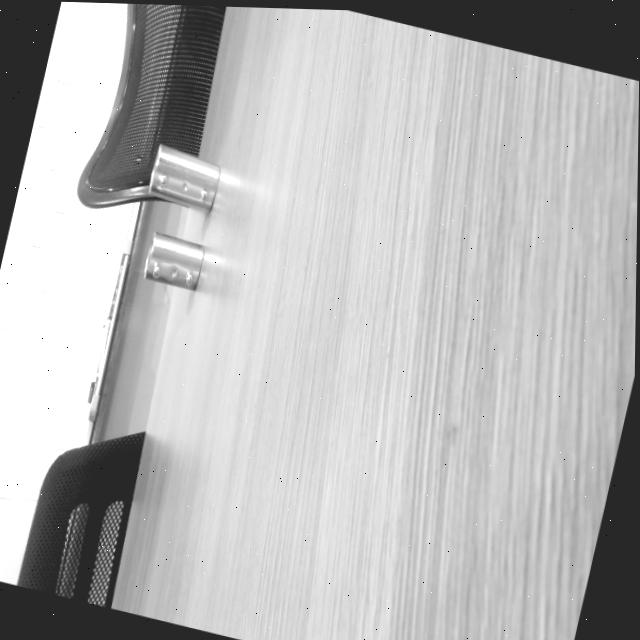Co_Lon: (143, 143, 226, 213)
Co_Nho: (142, 230, 207, 291)
